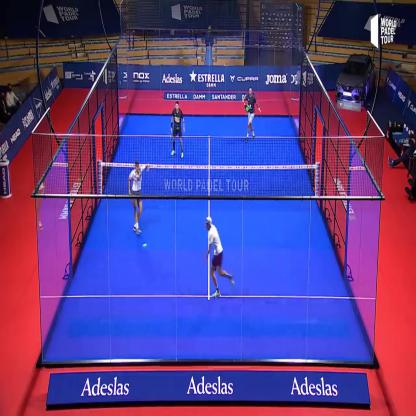ball: (139, 238, 148, 251)
